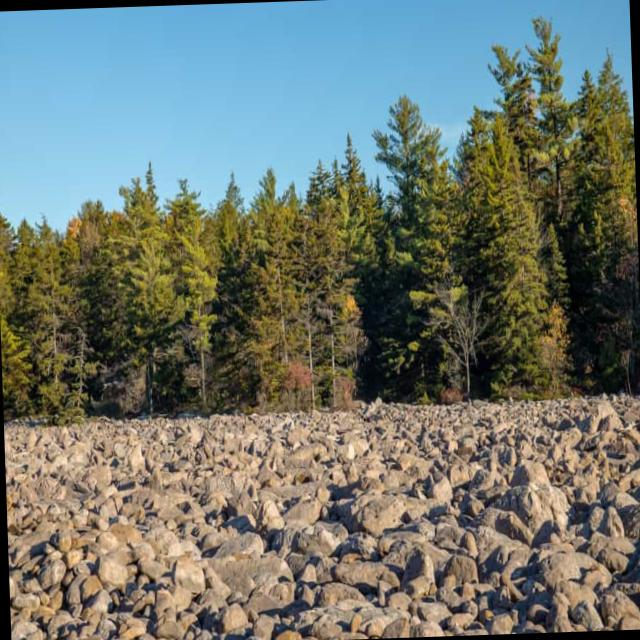stone: (3, 394, 640, 640)
